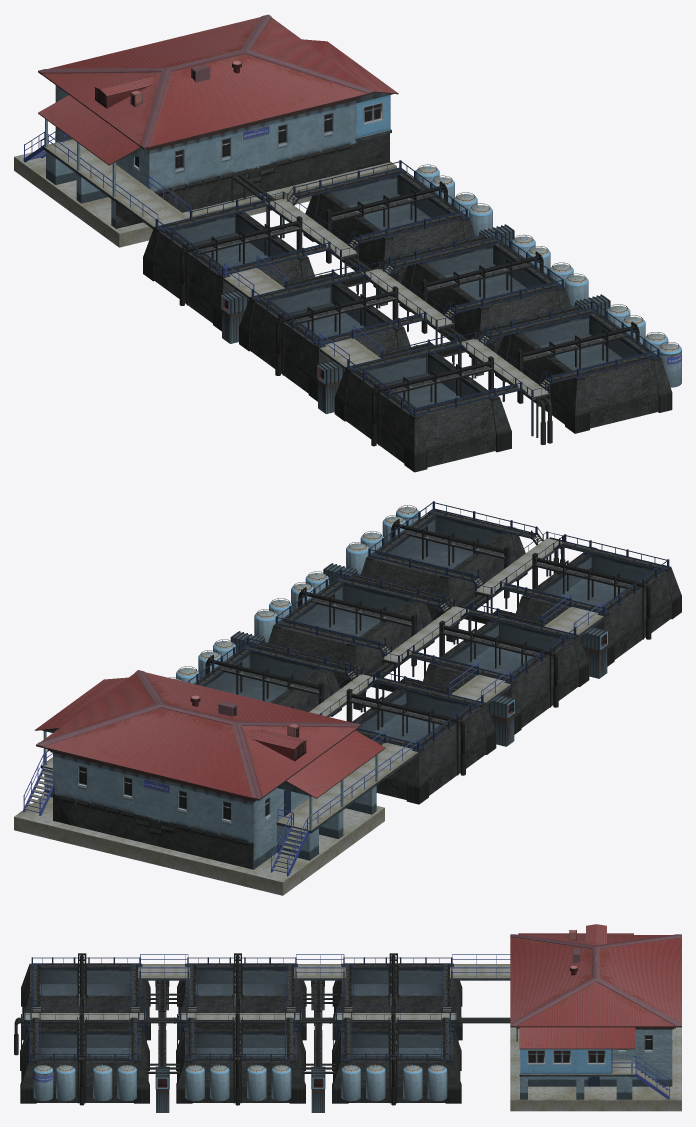
File: water_treament_plant.glb
3 views of the same model, one above another, from view 1: azimuth 30°, elevation 25°; view 2: azimuth 150°, elevation 25°; view 3: azimuth 270°, elevation 25° (orthographic). The views are drawn at different scales.
Visible parts, largest first — view 1: Cube_0, Tank3_3, Tank2_4, Tank_1, Cylinder_2; view 2: Cube_0, Tank3_3, Tank2_4, Tank_1, Cylinder_2; view 3: Cube_0, Tank3_3, Tank2_4, Tank_1, Cylinder_2.
Part boxes in pixels (<box>): Cube_0: <box>14,14,398,247</box>; Tank3_3: <box>317,294,672,472</box>; Tank2_4: <box>221,224,571,401</box>; Tank_1: <box>114,160,475,331</box>; Cylinder_2: <box>416,164,681,387</box>; Cube_0: <box>14,670,385,895</box>; Tank3_3: <box>323,501,681,678</box>; Tank2_4: <box>230,569,589,746</box>; Tank_1: <box>187,637,496,804</box>; Cylinder_2: <box>168,505,418,683</box>; Cube_0: <box>510,924,681,1111</box>; Tank3_3: <box>14,953,189,1112</box>; Tank2_4: <box>174,953,345,1112</box>; Tank_1: <box>330,953,517,1105</box>; Cylinder_2: <box>33,1064,447,1101</box>.
Bounding box in the file's own units: 44.75 × 18.08 × 107.
1 material, 1 textured.
